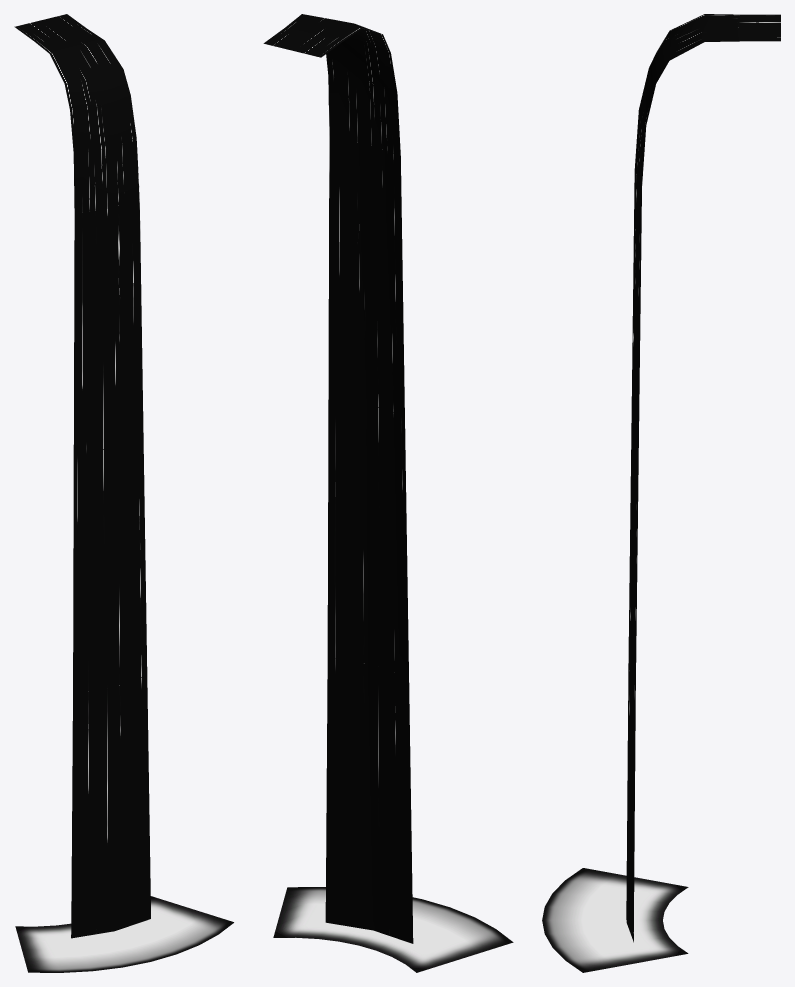
File: P_Waterfall8.obj
3 renders of one model, left to right at view 1: azimuth 30°, elevation 25°; view 2: azimuth 150°, elevation 25°; view 3: azimuth 270°, elevation 25°, orthographic. The views are drawn at different scales.
Size of the model in its own units: 10.9 by 43.24 by 10.46.
